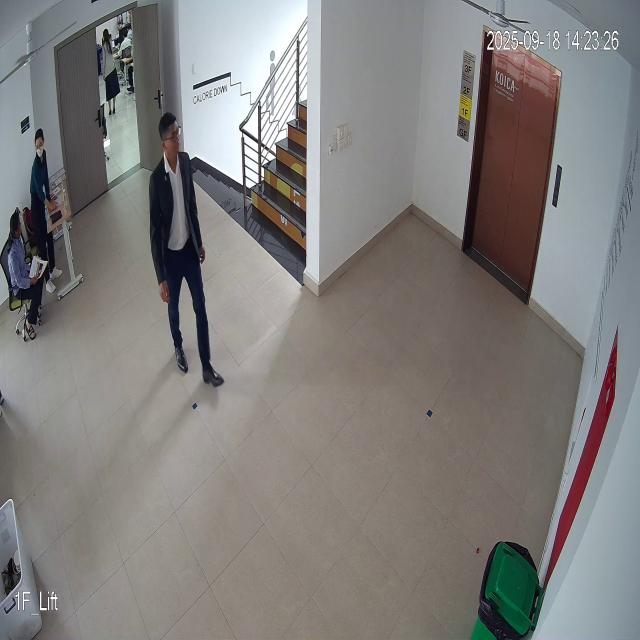face: (157, 106, 183, 164)
